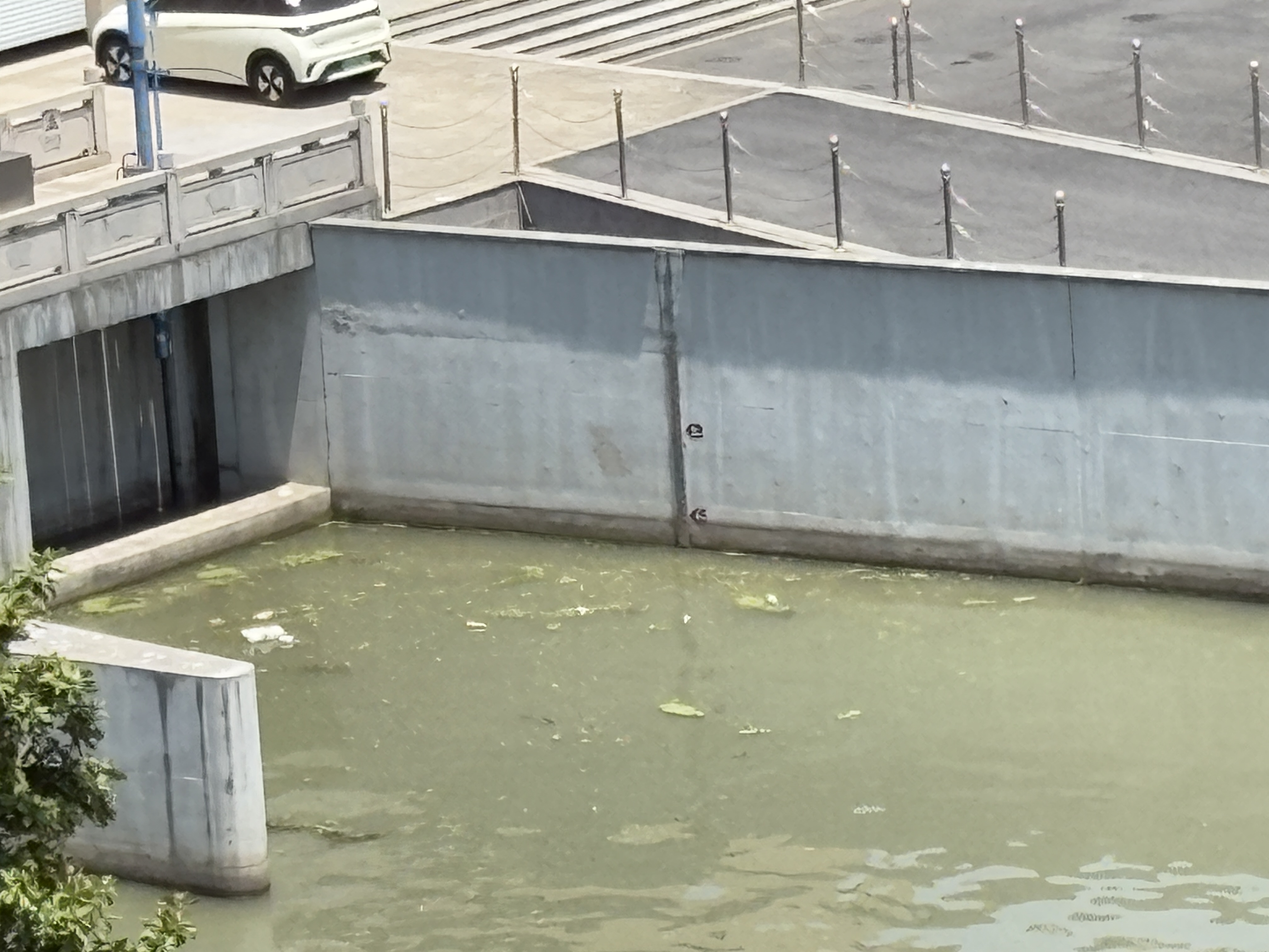Other: (294, 822, 390, 845), (742, 592, 794, 616), (280, 546, 341, 564), (554, 601, 638, 614), (85, 598, 145, 613), (662, 700, 706, 717), (513, 566, 549, 582), (201, 570, 234, 580)
Plastic wastes: (242, 625, 292, 644)
